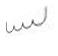inductor: (4, 1, 48, 34)
